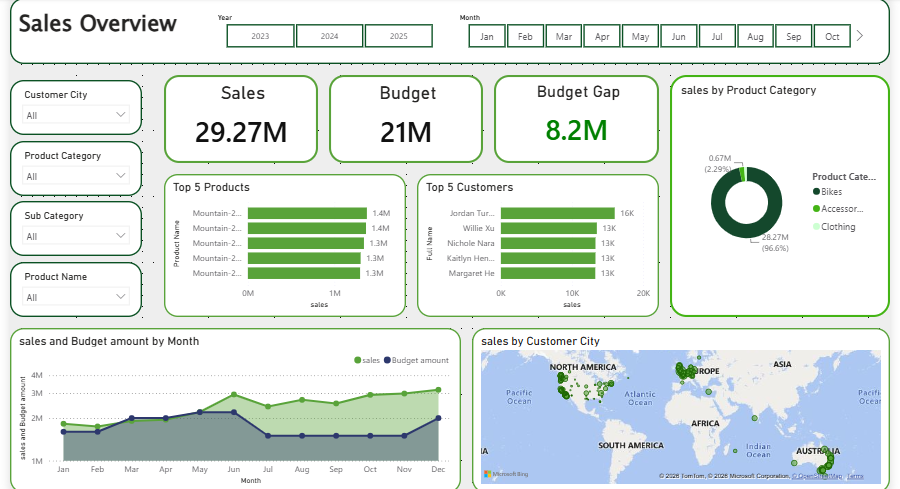

The dashboard page shown, as its layout file describes it:
{"tool":"powerbi","page":{"name":"Page 1","canvas":[1280,720],"ordinal":0},"visuals":[{"type":"textbox","box":[0,0,1280,96],"z":0},{"type":"slicer","fields":{"Values":["Dim_Customers.Customer City"]},"box":[0,119.3,192,80],"z":1000},{"type":"slicer","fields":{"Values":["Dim_Product.Sub Category"]},"box":[0,295.3,192,80],"z":2000},{"type":"slicer","fields":{"Values":["Dim_Product.Product Category"]},"box":[0,207.3,192,80],"z":3000},{"type":"slicer","fields":{"Values":["Dim_Product.Product Name"]},"box":[0,383.3,192,80],"z":4000},{"type":"slicer","fields":{"Values":["Dim_Calendar.Year"]},"box":[288,16,352,64],"z":5000},{"type":"slicer","fields":{"Values":["Dim_Calendar.Month"]},"box":[640,16,608,64],"z":6000},{"type":"cardVisual","title":"Sales","fields":{"Data":["Fact_InternetSales.sales"]},"box":[224,112,224,128],"z":7000},{"type":"cardVisual","title":"Budget","fields":{"Data":["Fact_Budget.Budget amount"]},"box":[464,112,224,128],"z":8000},{"type":"cardVisual","title":"Budget Gap","fields":{"Data":["Fact_Budget.Variance"]},"box":[704,112,240,128],"z":9000},{"type":"donutChart","fields":{"Category":["Dim_Product.Product Category"],"Y":["Fact_InternetSales.sales"]},"box":[960,112,320,352],"z":10000},{"type":"lineChart","fields":{"Y":["Fact_InternetSales.sales","Fact_Budget.Budget amount"],"Category":["Dim_Calendar.Month"]},"box":[0,480,656,240],"z":11000},{"type":"barChart","title":"Top 5 Customers","fields":{"Y":["Fact_InternetSales.sales"],"Category":["Dim_Customers.Full Name"]},"box":[592,256,352,208],"z":12000},{"type":"barChart","title":"Top 5 Products","fields":{"Y":["Fact_InternetSales.sales"],"Category":["Dim_Product.Product Name"]},"box":[224,256,352,208],"z":13000},{"type":"map","fields":{"Category":["Dim_Customers.Customer City"],"Size":["Fact_InternetSales.sales"]},"box":[672,480,608,240],"z":14000}]}

Visuals, with their boxes on the page's 1280x720 design canvas (x1, y1, x2, y2). These are canvas units, not pixel positions in the 900x489 screenshot, which may show the page scaled, cropped or inside an application window:
textbox: left=0, top=0, right=1280, bottom=96
slicer - Dim_Customers.Customer City: left=0, top=119, right=192, bottom=199
slicer - Dim_Product.Sub Category: left=0, top=295, right=192, bottom=375
slicer - Dim_Product.Product Category: left=0, top=207, right=192, bottom=287
slicer - Dim_Product.Product Name: left=0, top=383, right=192, bottom=463
slicer - Dim_Calendar.Year: left=288, top=16, right=640, bottom=80
slicer - Dim_Calendar.Month: left=640, top=16, right=1248, bottom=80
"Sales" cardVisual: left=224, top=112, right=448, bottom=240
"Budget" cardVisual: left=464, top=112, right=688, bottom=240
"Budget Gap" cardVisual: left=704, top=112, right=944, bottom=240
donutChart - Dim_Product.Product Category x Fact_InternetSales.sales: left=960, top=112, right=1280, bottom=464
lineChart - Fact_InternetSales.sales x Fact_Budget.Budget amount: left=0, top=480, right=656, bottom=720
"Top 5 Customers" barChart: left=592, top=256, right=944, bottom=464
"Top 5 Products" barChart: left=224, top=256, right=576, bottom=464
map - Dim_Customers.Customer City x Fact_InternetSales.sales: left=672, top=480, right=1280, bottom=720
